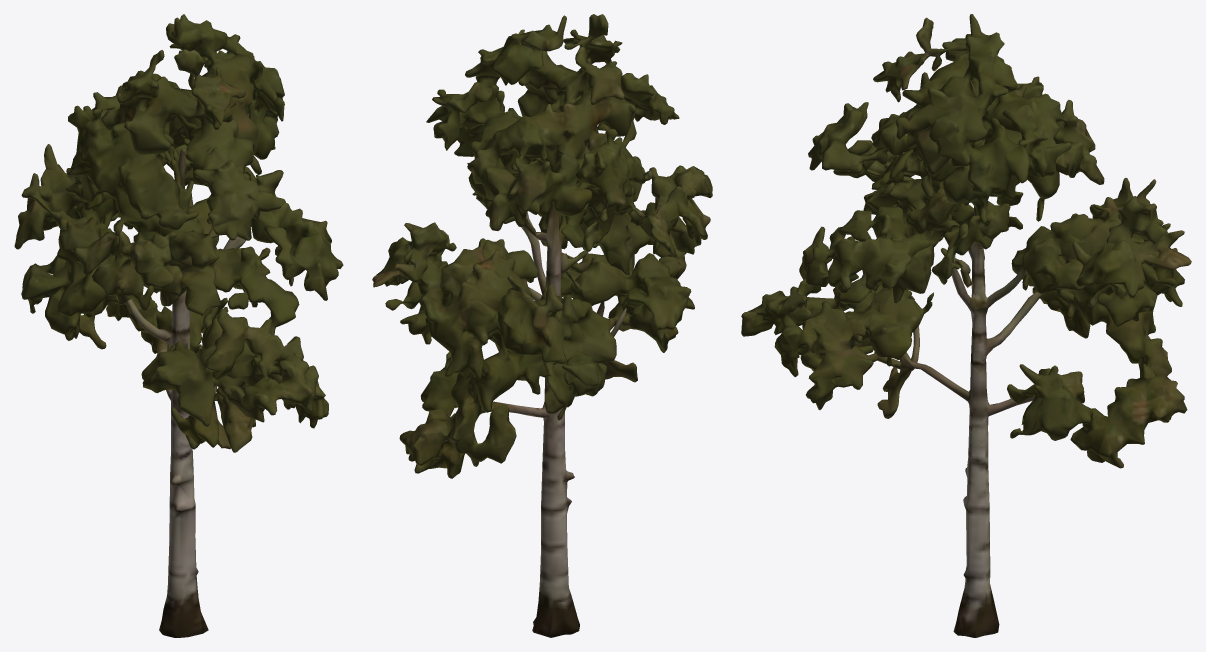
The model's file is tree_birch.glb.
3 views of the same model, side by side, from view 1: azimuth 30°, elevation 25°; view 2: azimuth 150°, elevation 25°; view 3: azimuth 270°, elevation 25° (orthographic).
Parts seen in each view (by area): view 1: tripo_node_e436babd-76de-4a8e-bc08-9e548f49bea3; view 2: tripo_node_e436babd-76de-4a8e-bc08-9e548f49bea3; view 3: tripo_node_e436babd-76de-4a8e-bc08-9e548f49bea3.
Boxes of the visible parts, x1,y1,x2,y2 form: tripo_node_e436babd-76de-4a8e-bc08-9e548f49bea3: (14, 14, 343, 637); tripo_node_e436babd-76de-4a8e-bc08-9e548f49bea3: (372, 14, 712, 637); tripo_node_e436babd-76de-4a8e-bc08-9e548f49bea3: (741, 14, 1191, 637).
Bounding box in the file's own units: 0.3651 × 0.9479 × 0.6327.
Materials: 1 (1 with a texture image).
